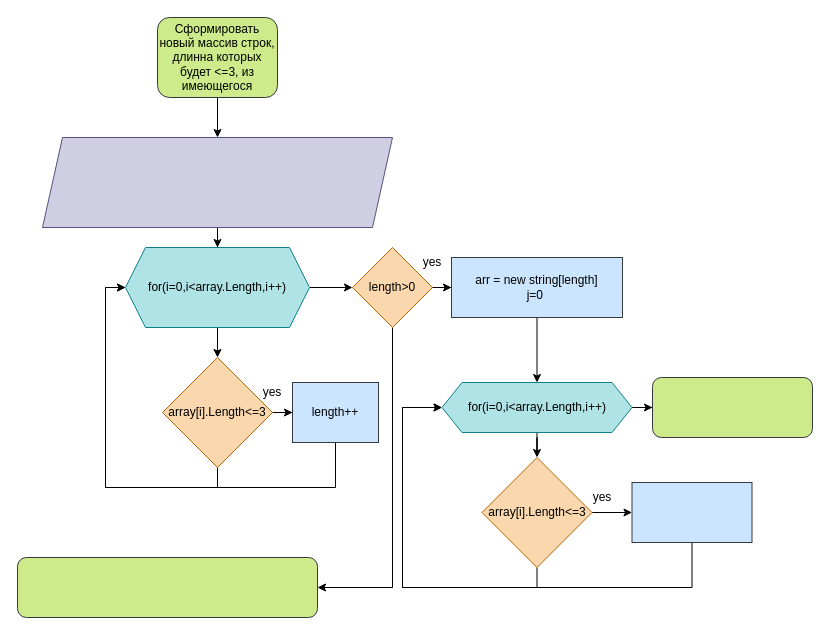
The diagram is 830 pixels wide and 635 high, and some of its shapes have lost their labels. Each missing label, with the centre of its shape:
arr = { "hi" , "123" }: pixel 732 407
arr[j]=array[i] j++: pixel 691 512
array = { "hellow" , "hi" , "123" } length = 0;: pixel 217 182
Строки размером в 3 символа или меньше отсутствуют в заданном массиве: pixel 167 587
